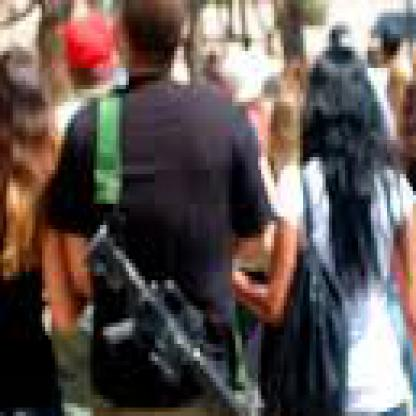gun: (45, 8, 413, 412)
